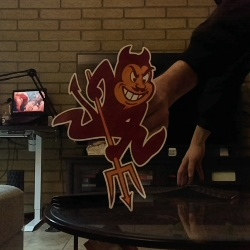sparky: (50, 43, 167, 211)
